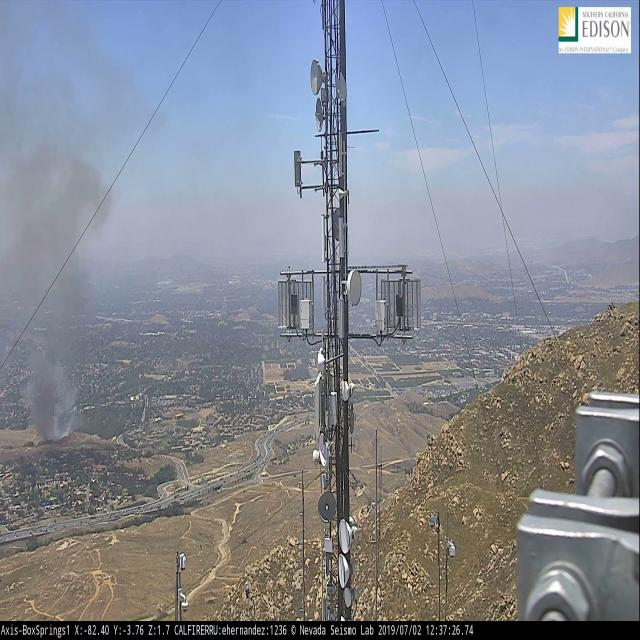smoke: (0, 1, 171, 444)
